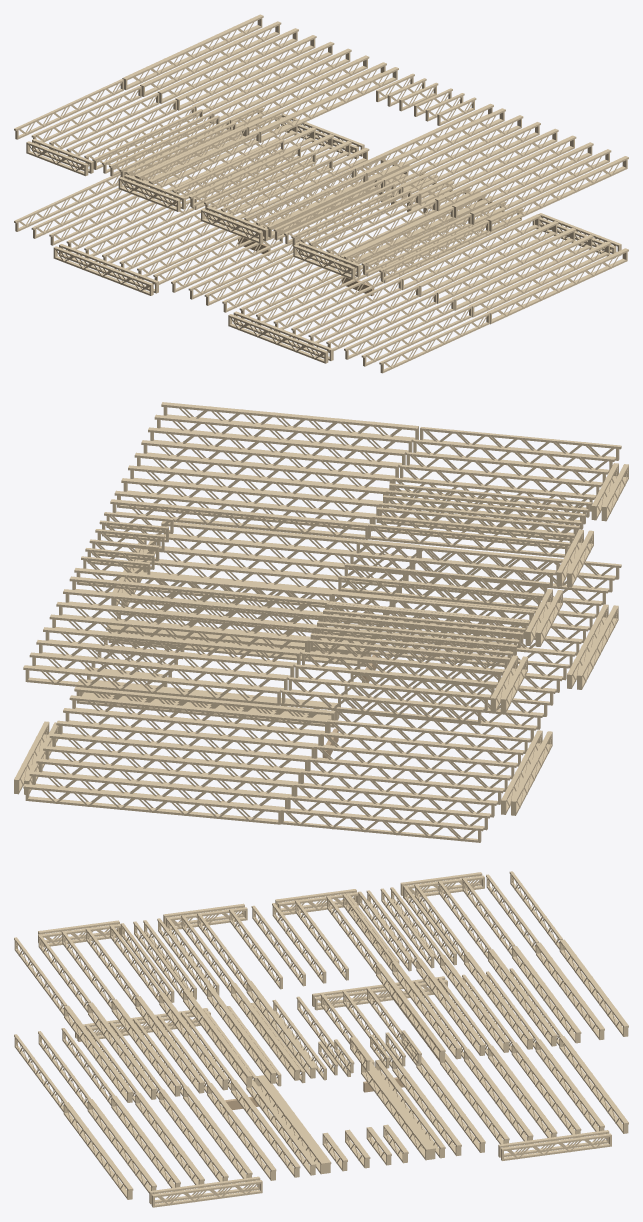
Rendered from floor-trusses.glb.
3 renders of one model, top to bottom at view 1: azimuth 30°, elevation 25°; view 2: azimuth 150°, elevation 25°; view 3: azimuth 270°, elevation 25°, orthographic. The views are drawn at different scales.
Parts seen in each view (by area): view 1: part_00; view 2: part_00; view 3: part_00.
Boxes of the visible parts, <box> form: part_00: <box>14,14,628,373</box>; part_00: <box>14,402,628,842</box>; part_00: <box>14,871,628,1207</box>.
Bounding box in the file's own units: 12.75 × 3.33 × 14.74.
